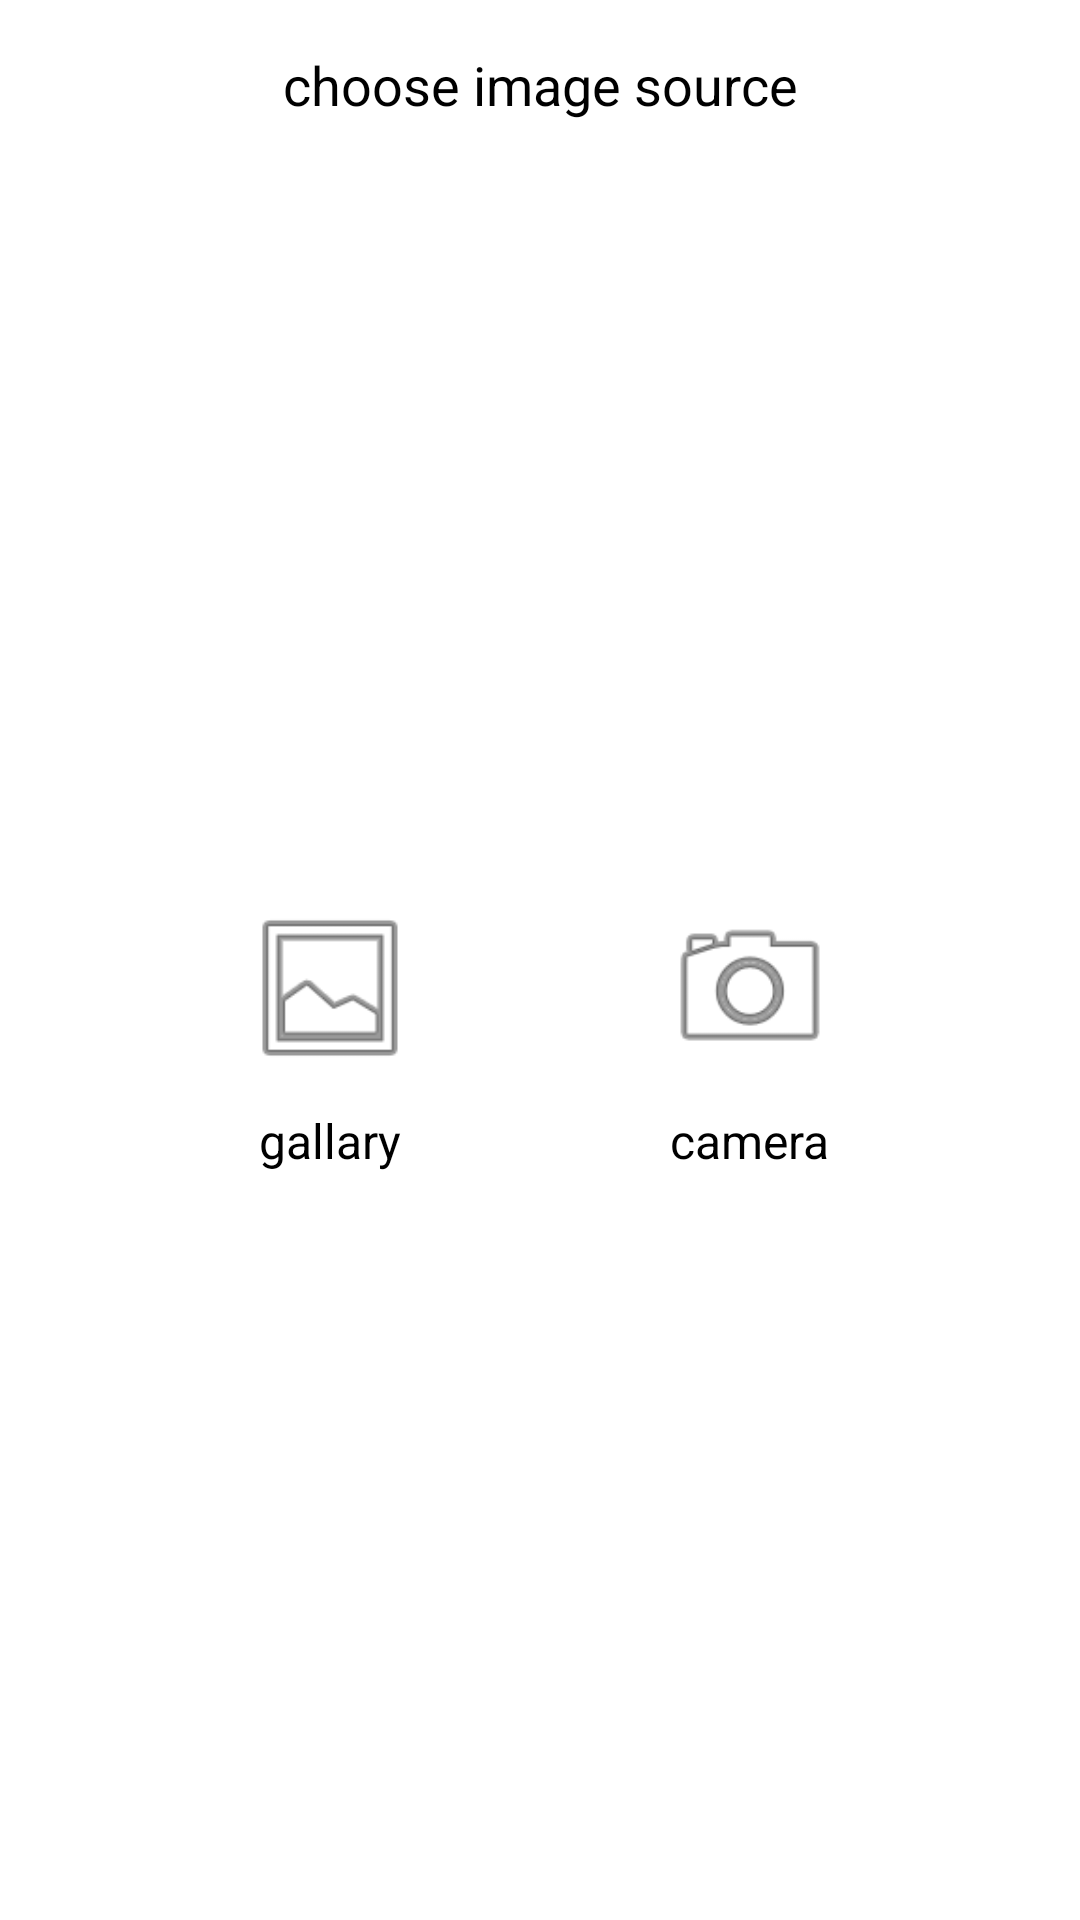

Icon bounding boxes for this 1080w x 1920h phone screenshot, format (x1, y1, x2, y2):
gallery: (262, 920, 398, 1056)
